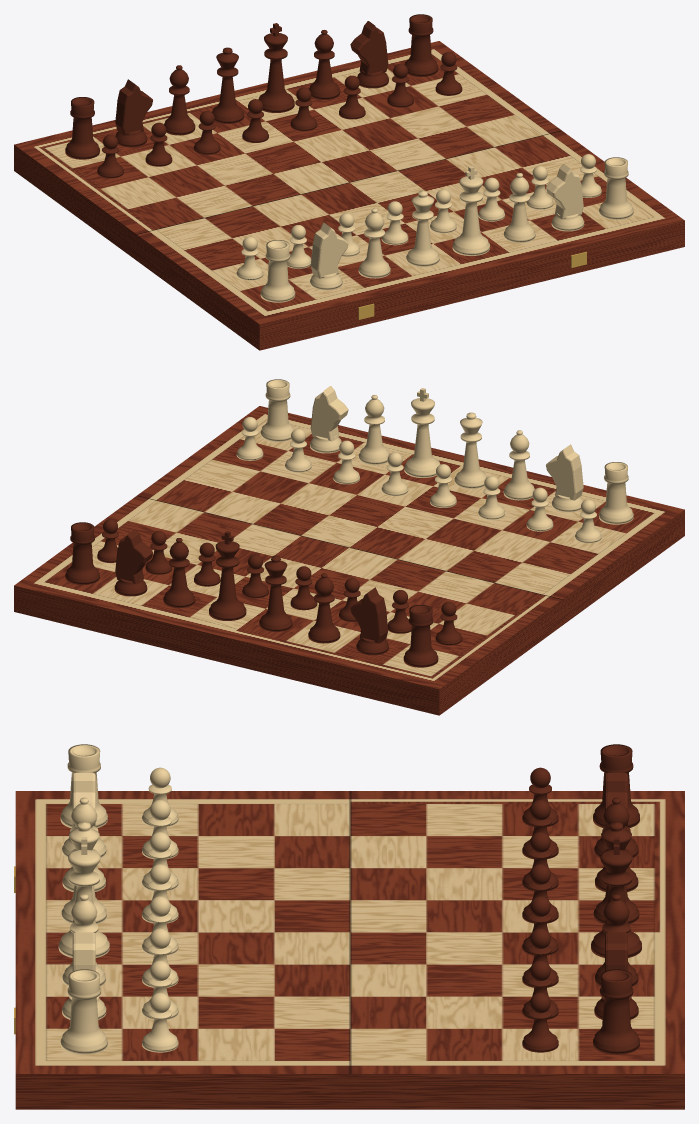
The model's file is philidor-3d-acajou-pliable-44.glb.
3 renders of one model, top to bottom at view 1: azimuth 30°, elevation 25°; view 2: azimuth 150°, elevation 25°; view 3: azimuth 270°, elevation 25°, orthographic. The views are drawn at different scales.
Visible parts, largest first — view 1: acajou-pliable-44; view 2: acajou-pliable-44; view 3: acajou-pliable-44.
Boxes of the visible parts, x1,y1,x2,y2 form: acajou-pliable-44: (14,14,684,350); acajou-pliable-44: (14,379,684,715); acajou-pliable-44: (14,744,684,1109).
Size of what is drawn, in the model's own units: 0.44 by 0.106 by 0.4412.
Materials: 5 (2 with a texture image).
